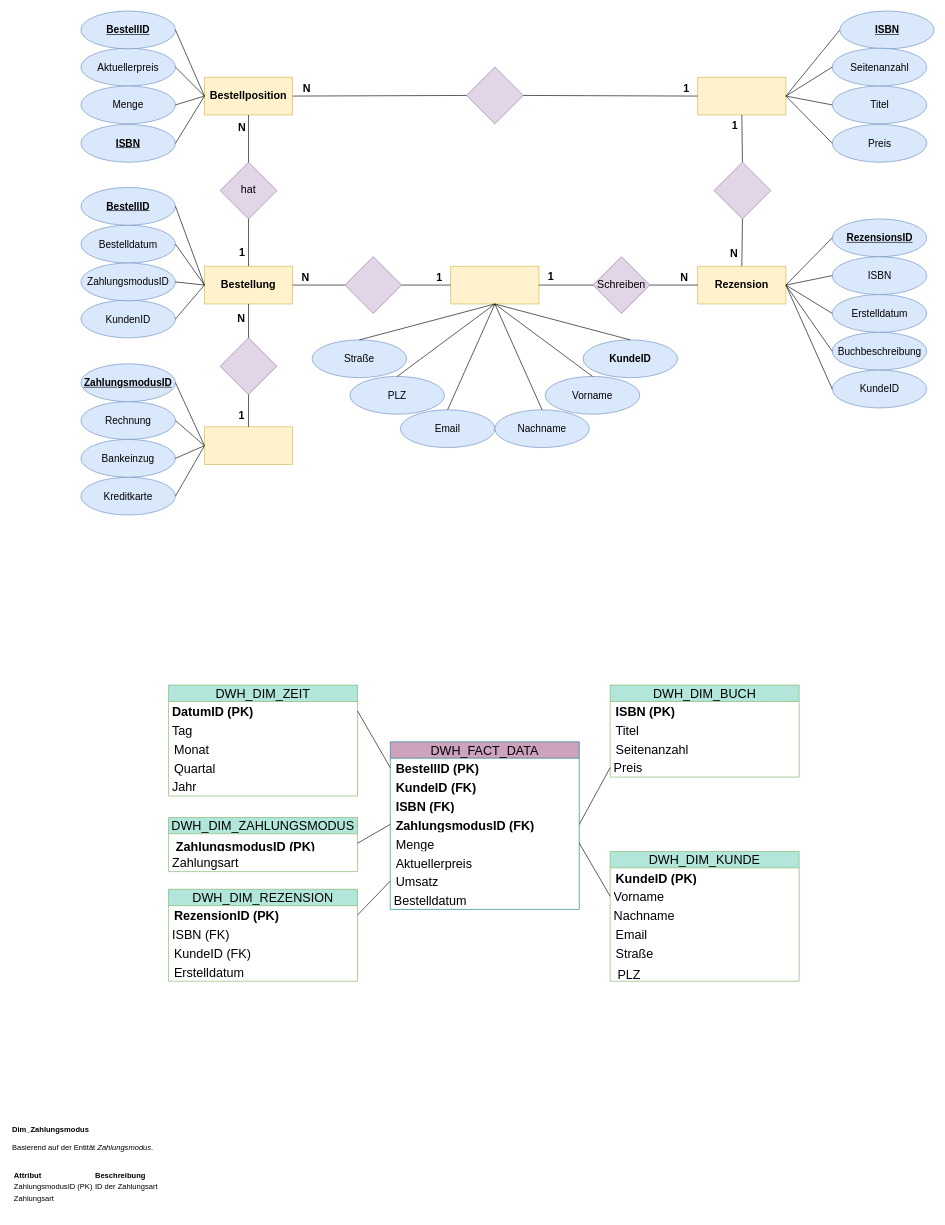
The diagram is 945 pixels wide and 1225 high, and some of its shapes have lost their labels. Each missing label, with the centre of its shape:
"Buch" belongs at [741,96].
"gehört" belongs at [373,284].
"getätigt durch" belongs at [248,366].
"haben" belongs at [742,190].
"kommt vor" belongs at [494,95].
"Kunde" belongs at [494,285].
"Zahlungsmodus" belongs at [248,445].
